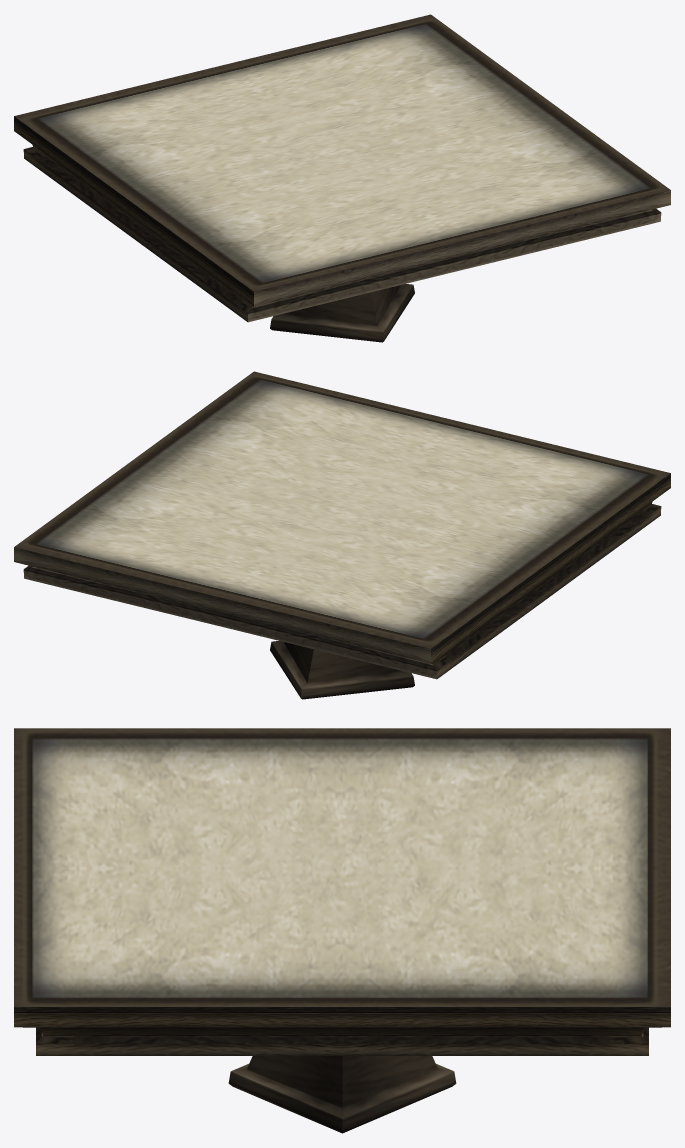
File: ChicTable_HD.fbx
3 views of the same model, one above another, from view 1: azimuth 30°, elevation 25°; view 2: azimuth 150°, elevation 25°; view 3: azimuth 270°, elevation 25° (orthographic). The views are drawn at different scales.
Parts seen in each view (by area): view 1: ChicRoundTable; view 2: ChicRoundTable; view 3: ChicRoundTable.
Boxes of the visible parts, <box> form: ChicRoundTable: <box>14,14,670,342</box>; ChicRoundTable: <box>14,371,670,699</box>; ChicRoundTable: <box>14,728,670,1133</box>.
Size of the model in its own units: 1.65 by 0.6048 by 1.64.
